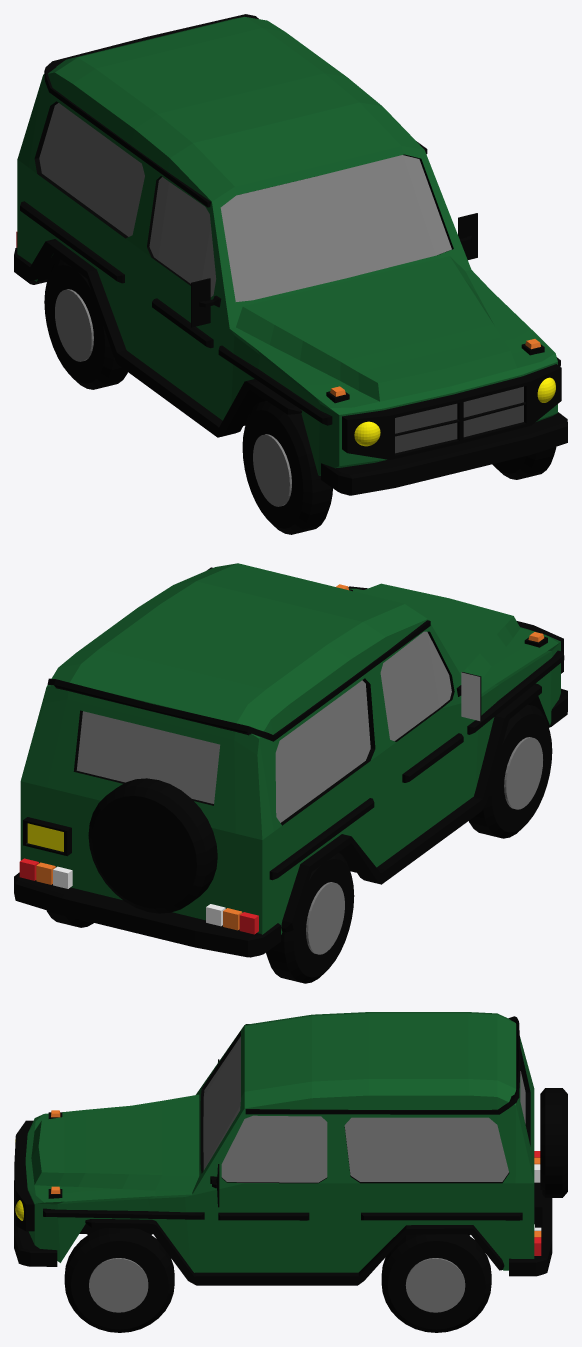
The model's file is Авто 1.fbx.
3 renders of one model, top to bottom at view 1: azimuth 30°, elevation 25°; view 2: azimuth 150°, elevation 25°; view 3: azimuth 270°, elevation 25°, orthographic. The views are drawn at different scales.
Visible parts, largest first — view 1: Cube, Cube.001, Cube.003, Cylinder.004, Cylinder.007, Cylinder.008, Cylinder.005, Cylinder.001; view 2: Cube, Cylinder, Cube.003, Cylinder.007, Cylinder.004, Cylinder.005, Cylinder.008, Cube.002; view 3: Cube, Cylinder.001, Cylinder.002, Cylinder, Cube.003, Cylinder.003, Cylinder.006, Cube.001.
Boxes of the visible parts, x1,y1,x2,y2 form: Cube: [16, 14, 560, 475]; Cube.001: [342, 364, 561, 459]; Cube.003: [14, 247, 567, 495]; Cylinder.004: [242, 401, 332, 534]; Cylinder.007: [44, 259, 127, 389]; Cylinder.008: [55, 289, 93, 361]; Cylinder.005: [253, 434, 291, 506]; Cylinder.001: [492, 447, 556, 479]; Cube: [19, 563, 564, 934]; Cylinder: [88, 778, 217, 913]; Cube.003: [14, 688, 567, 957]; Cylinder.007: [266, 852, 354, 983]; Cylinder.004: [469, 704, 552, 838]; Cylinder.005: [504, 737, 542, 809]; Cylinder.008: [306, 882, 344, 954]; Cube.002: [23, 817, 71, 856]; Cube: [15, 1012, 541, 1285]; Cylinder.001: [64, 1228, 174, 1332]; Cylinder.002: [381, 1234, 491, 1332]; Cylinder: [540, 1088, 567, 1197]; Cube.003: [14, 1180, 552, 1276]; Cylinder.003: [89, 1258, 148, 1312]; Cylinder.006: [405, 1258, 465, 1312]; Cube.001: [14, 1120, 34, 1231].
Bounding box in the file's own units: 71.45 × 70.21 × 149.
